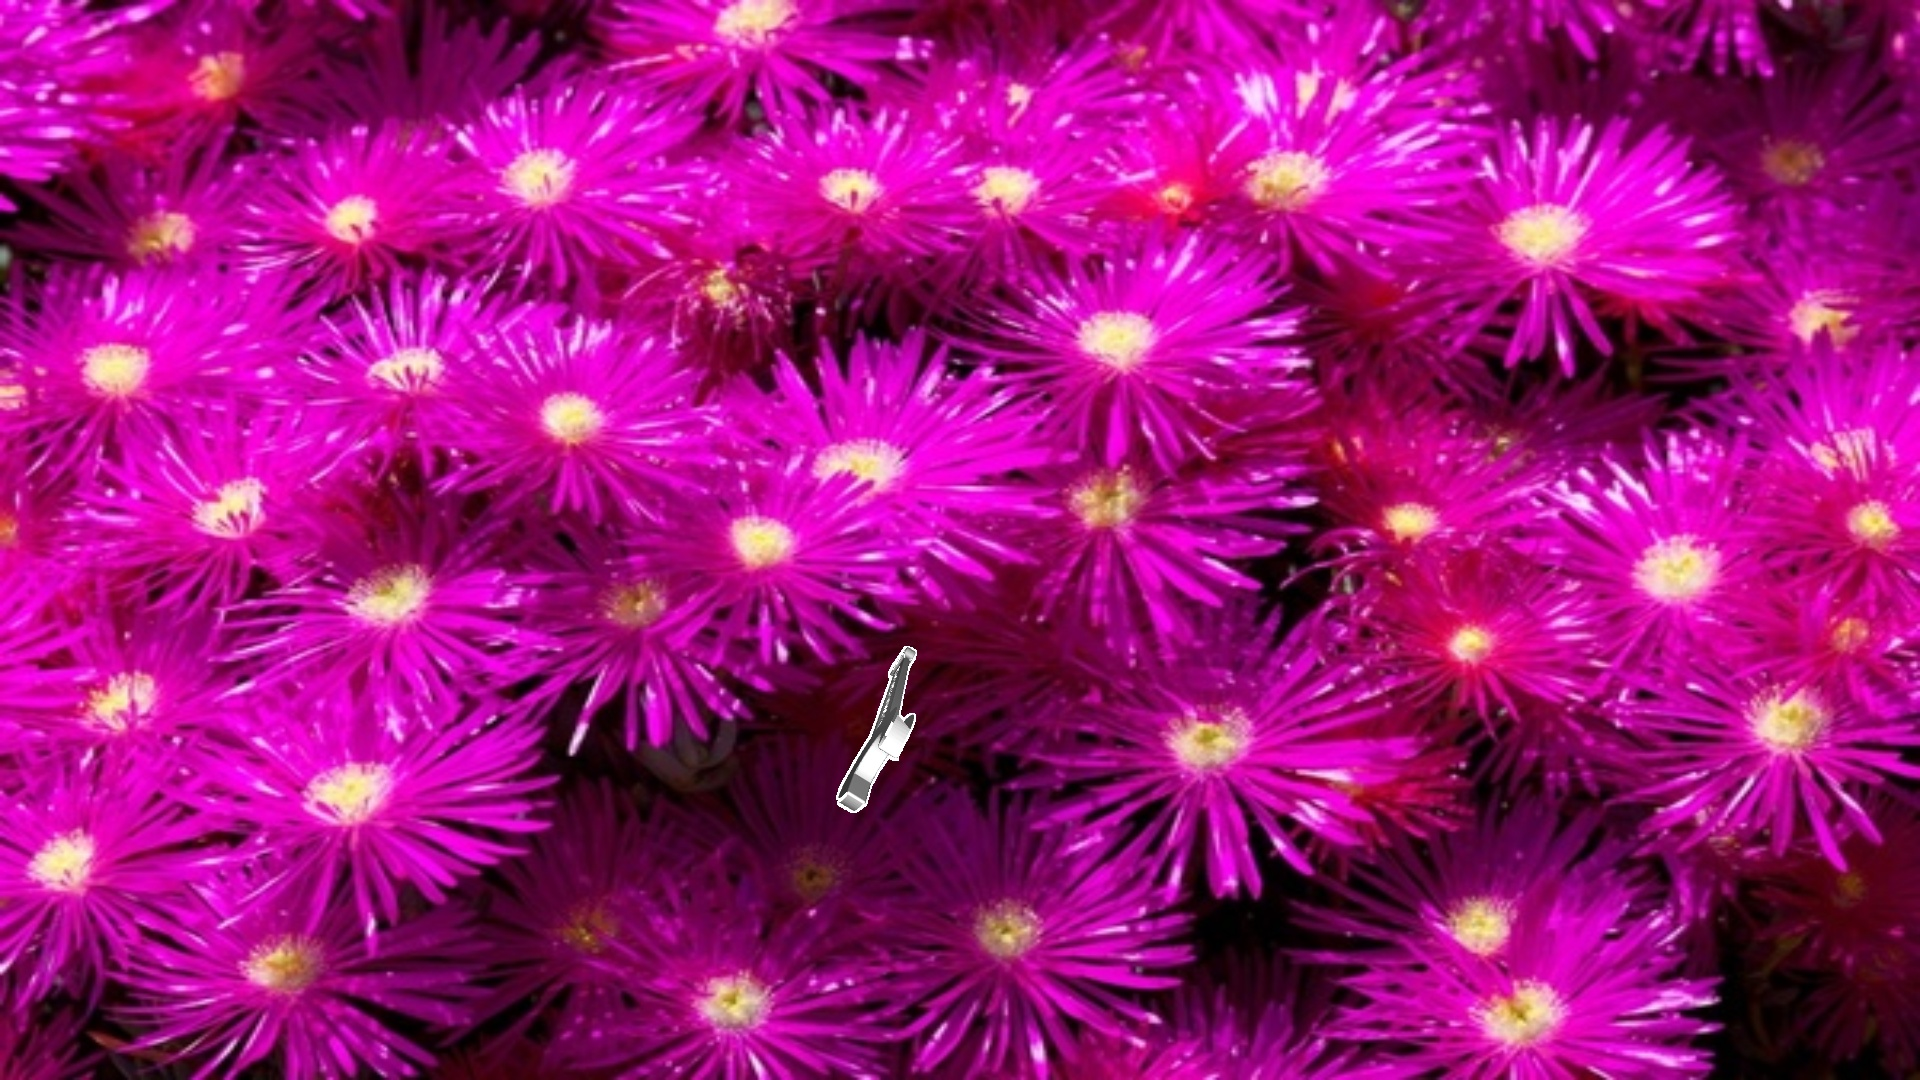Mixed Key: (836, 646, 916, 812)
